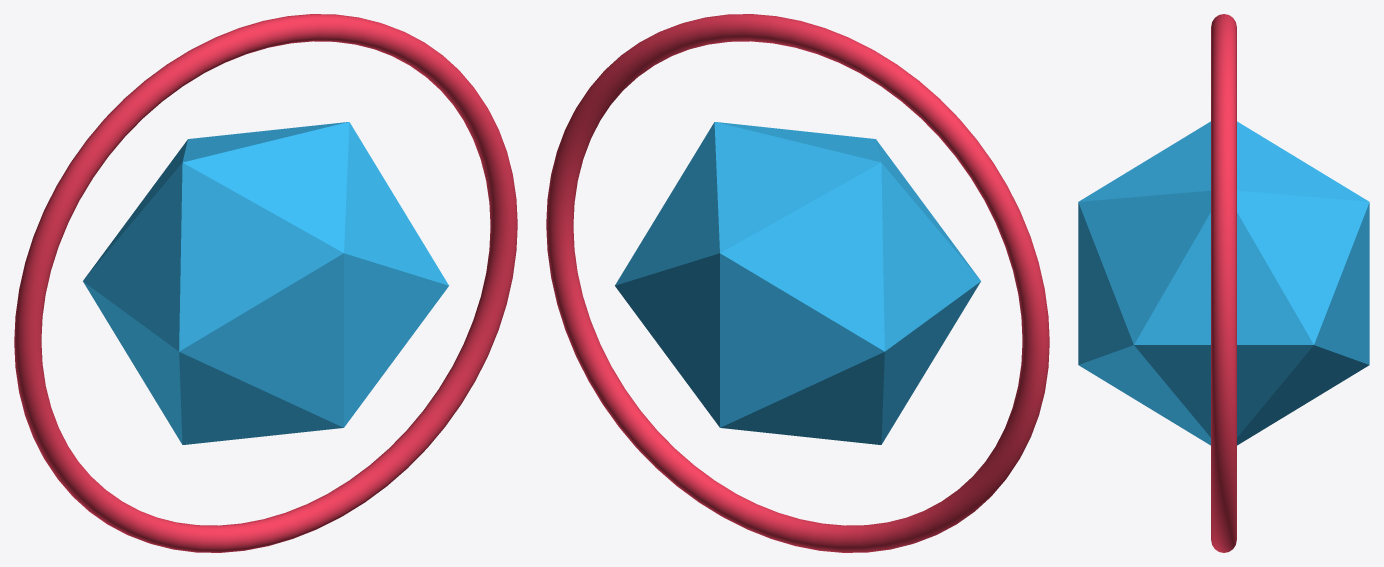
The model's file is sample-model.glb.
3 views of the same model, side by side, from view 1: azimuth 30°, elevation 25°; view 2: azimuth 150°, elevation 25°; view 3: azimuth 270°, elevation 25° (orthographic). The views are drawn at different scales.
Visible parts, largest first — view 1: CrystalCore, OrbitRing; view 2: CrystalCore, OrbitRing; view 3: CrystalCore, OrbitRing.
Part boxes in pixels (bbox=[...]): CrystalCore: bbox=[83, 122, 448, 444]; OrbitRing: bbox=[14, 14, 517, 552]; CrystalCore: bbox=[615, 122, 980, 444]; OrbitRing: bbox=[546, 14, 1049, 552]; CrystalCore: bbox=[1078, 121, 1369, 445]; OrbitRing: bbox=[1211, 14, 1236, 552].
Bounding box in the file's own units: 1.26 × 1.26 × 0.6805.
